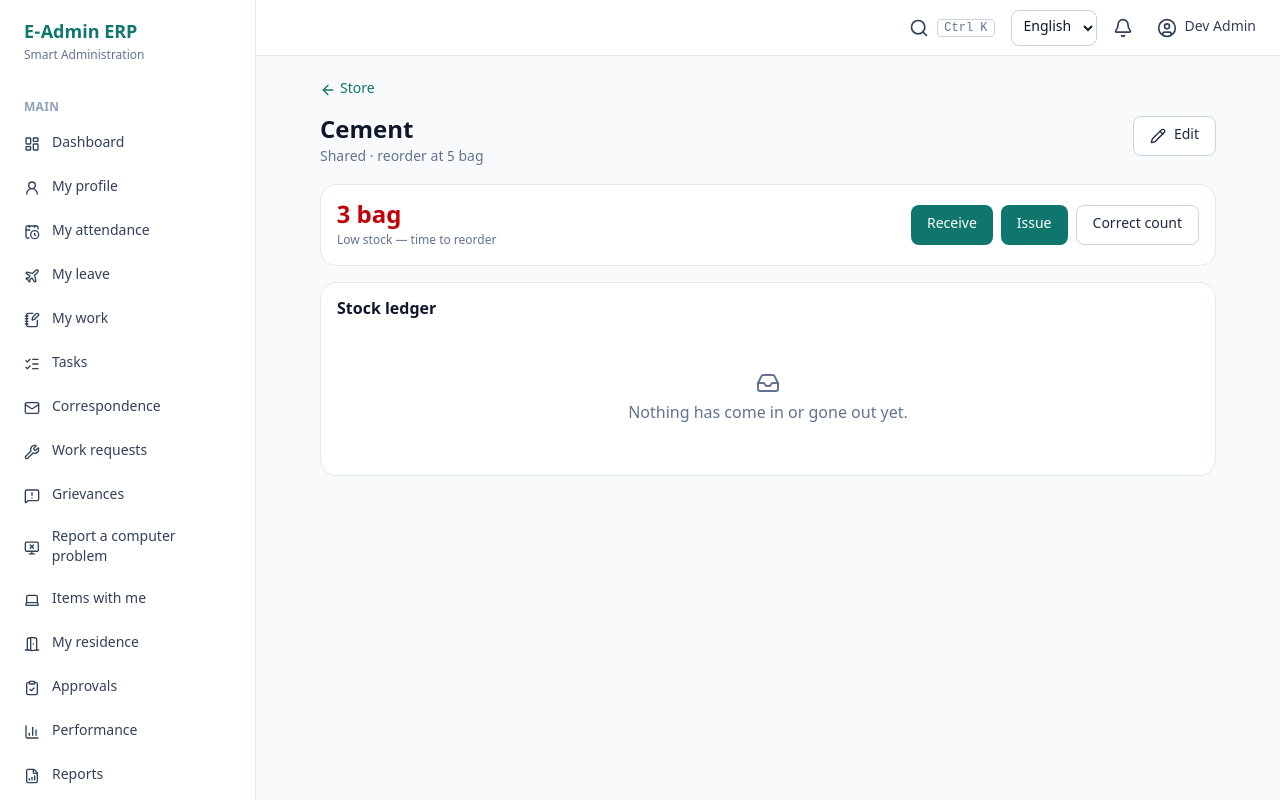
Test: store and purchasing › a correction needs a reason before it is sent
Expected: the text "Low stock — time to reorder" is shown, [337,233,496,249]
Step 1. Click the button "Correct count" → (1137, 225), box [1076,205,1199,245]
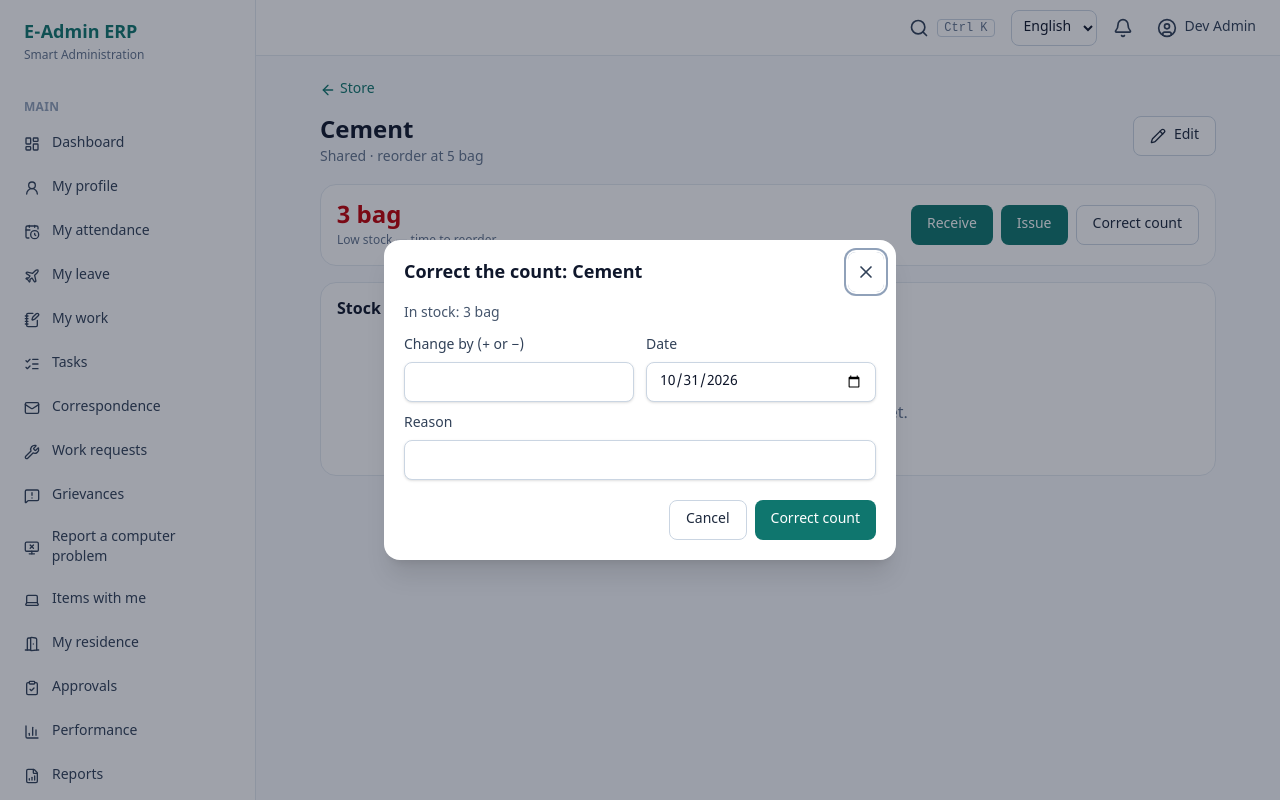
Step 2. Type "-1" into the number field labelled "Change by (+ or −)" → (519, 382), box [404,362,634,402]
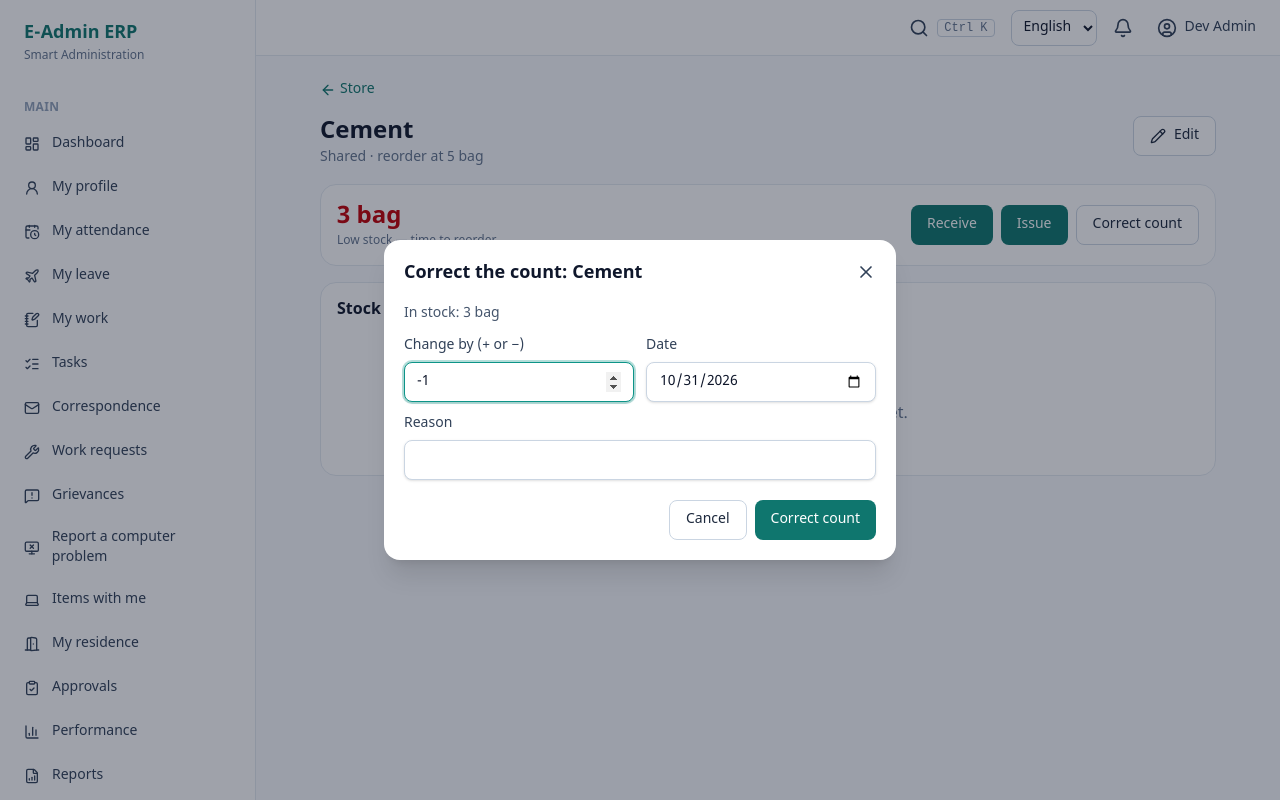
Step 3. Click the button "Correct count" → (815, 520), box [754,500,876,540]
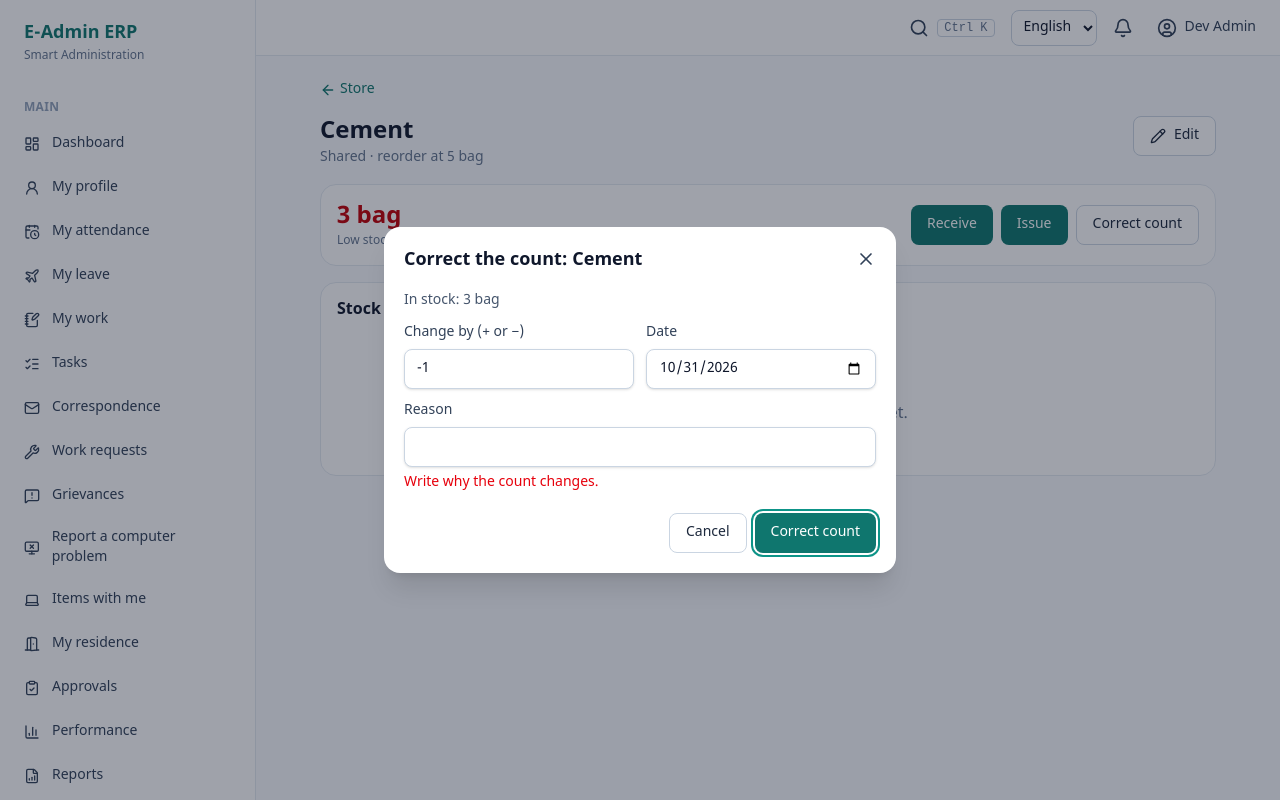
Expected: the text "Write why the count changes." is shown, [404,473,599,492]
